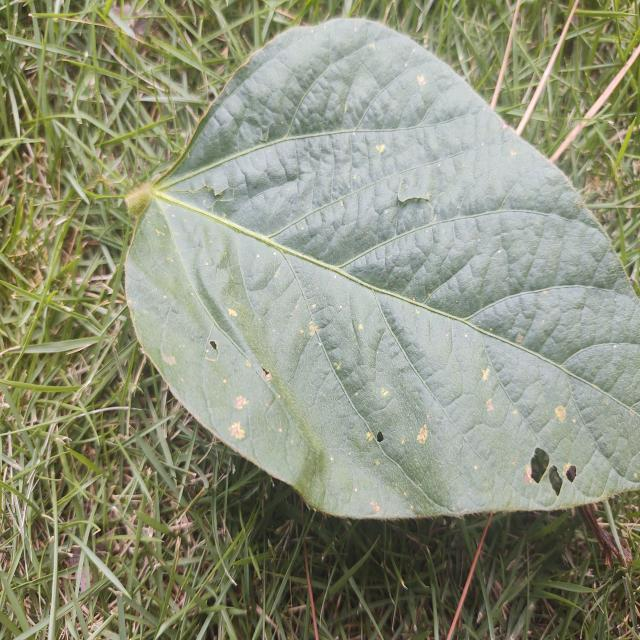Soybean: (122, 17, 640, 522)
downey_mildew: (460, 338, 639, 483), (317, 277, 407, 448), (344, 393, 416, 498), (278, 283, 337, 386), (226, 383, 253, 436), (233, 394, 253, 441), (299, 318, 321, 338), (204, 340, 220, 362), (229, 421, 245, 439), (234, 395, 248, 410), (523, 465, 533, 484), (162, 352, 176, 365), (261, 366, 272, 381), (375, 143, 385, 154), (486, 399, 494, 412), (481, 368, 489, 381), (417, 75, 426, 86), (515, 333, 523, 344), (228, 308, 237, 317), (426, 192, 431, 201), (246, 360, 252, 367), (510, 150, 517, 156), (358, 324, 363, 331), (223, 378, 227, 384), (278, 427, 282, 433), (542, 290, 547, 294), (205, 261, 209, 266), (330, 457, 334, 462), (497, 249, 501, 254), (180, 378, 184, 382), (481, 142, 485, 146), (613, 344, 617, 348), (354, 488, 358, 492), (465, 333, 468, 338), (477, 237, 480, 242), (438, 163, 441, 168), (474, 465, 477, 470), (172, 214, 175, 218), (301, 226, 304, 230)
